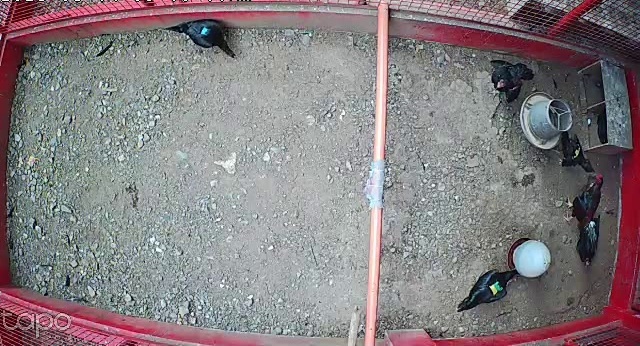Chicken: (164, 16, 240, 62), (454, 265, 520, 313), (486, 58, 536, 105), (553, 129, 598, 173)
Rooster: (560, 174, 607, 267)
Saddle_Color_Blue: (200, 26, 211, 37)
Saddle_Color_Yellow: (573, 148, 582, 158)
Saddle_Color_YellowGreen: (489, 281, 503, 295)
